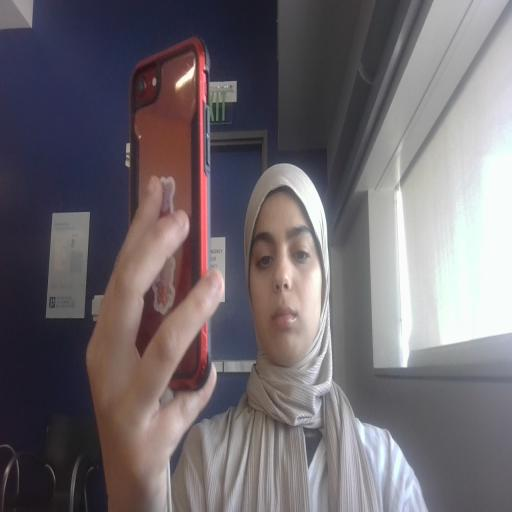phone: (110, 41, 257, 421)
